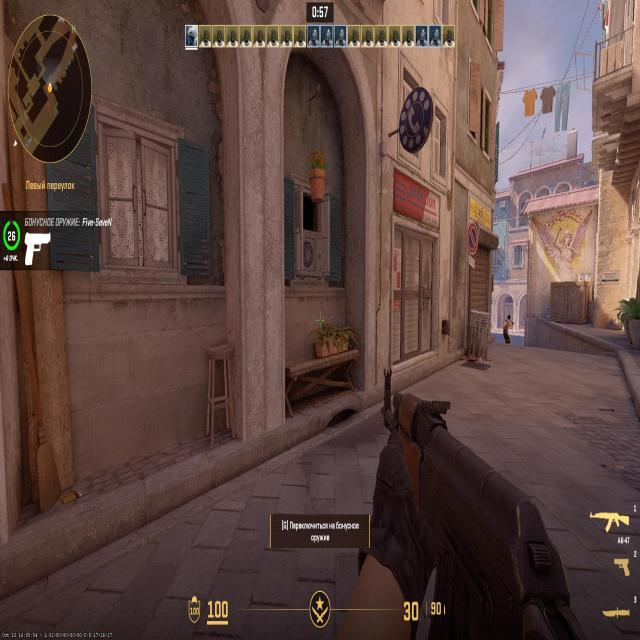T: (506, 314, 512, 340)
T_heat: (507, 316, 509, 320)
